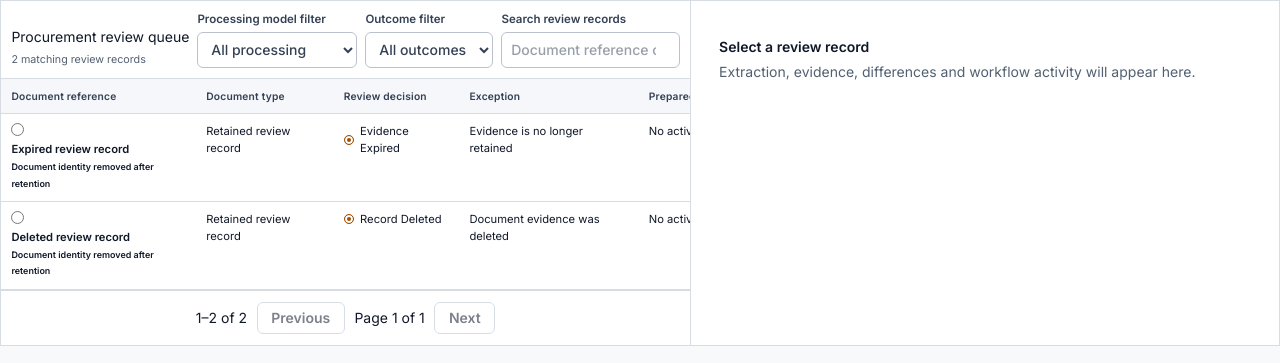
Test: Run explorer › keeps the bounded source check in selected retained records
Click the radio button named "Select Expired review record, Evidence expired, received 27 Aug 2026, 08:00 SGT": (18, 130) [11,123,24,136]
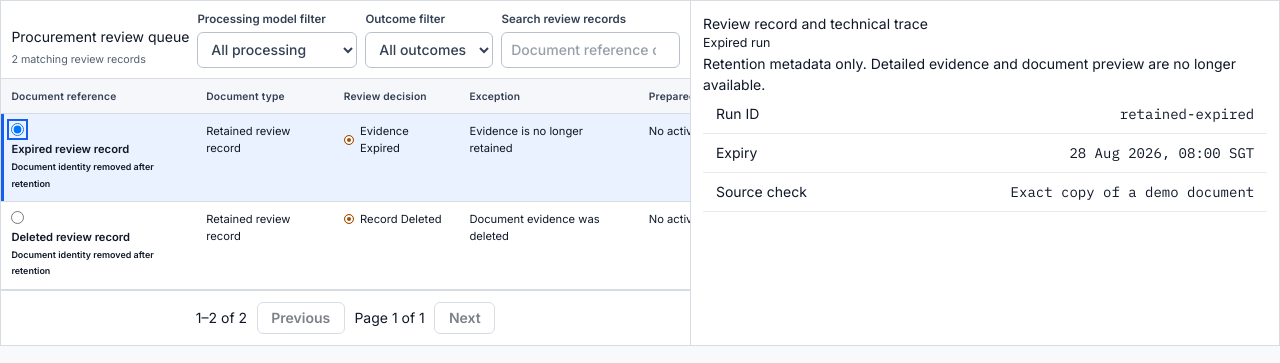
Expected: the text "Source check" is shown, [716,181,807,202]
Expected: the text "Exact copy of a demo document" is shown, [1011,182,1254,203]
Click the radio button named "Select Deleted review record, Record deleted, received 27 Aug 2026, 08:00 SGT": (18, 218) [11,211,24,224]
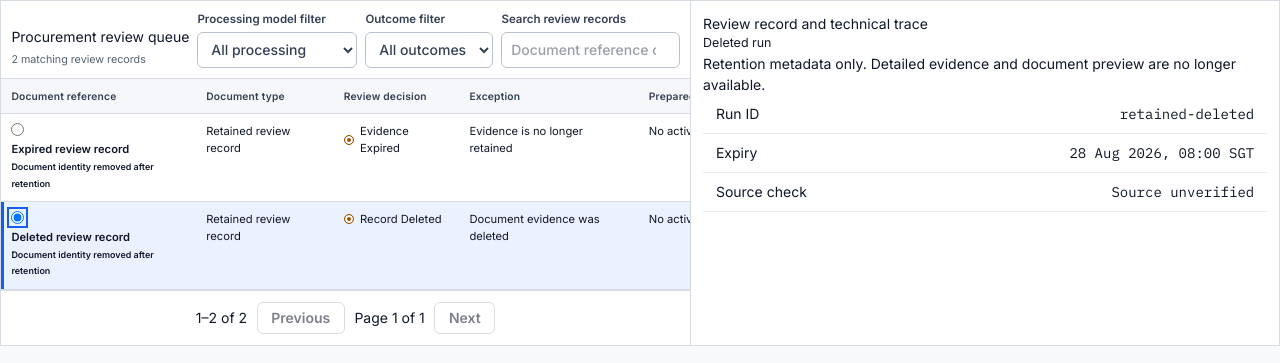
Expected: the text "Source check" is shown, [716,181,807,202]
Expected: the text "Source unverified" is shown, [1111,182,1254,203]
